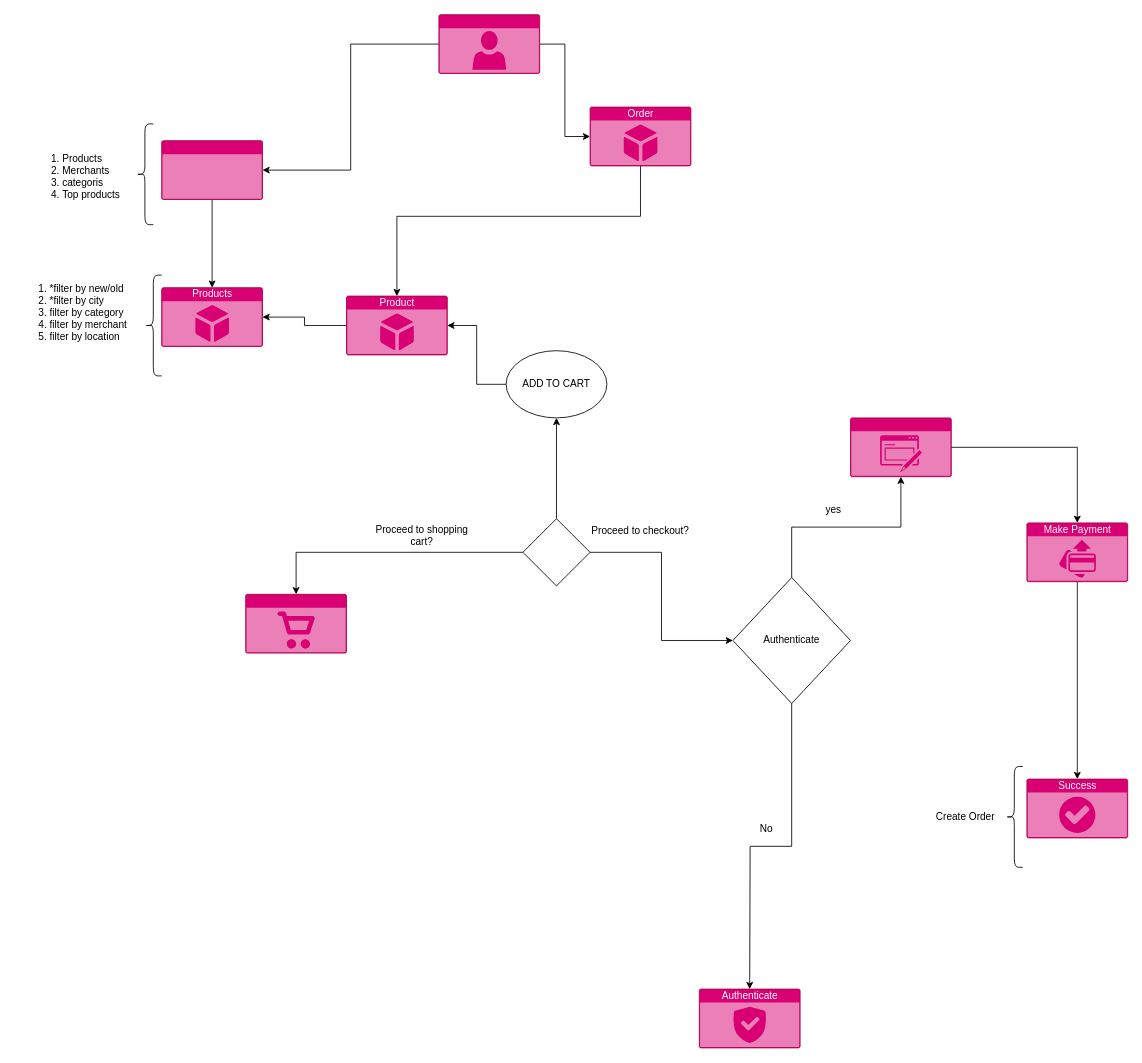
Image size: 1142x1063. Some labels were removed from this diagram. The shapes that lost their labels are listed below. From the top down, each one's box as (x1, y1, x2, y2) in pixels, then its label:
(438, 14, 540, 74): User Account
(161, 140, 262, 200): Home
(850, 417, 951, 477): Checkout
(245, 593, 346, 653): Shopping
